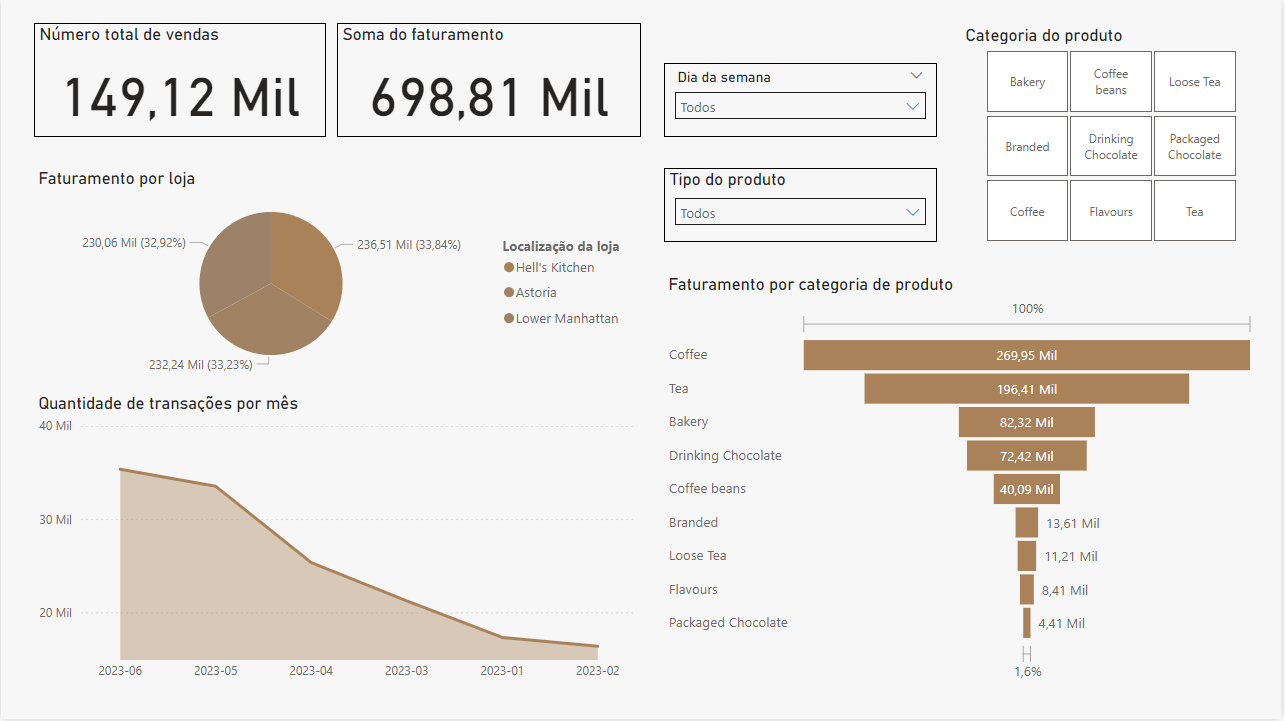

This screenshot's page, from the dashboard's own definition file:
{"tool":"powerbi","page":{"name":"Vendas 2023","canvas":[1280,720],"ordinal":0},"visuals":[{"type":"pieChart","title":"Faturamento por loja","fields":{"Category":["coffee_sales_2023_1sem.store_location"],"Y":["Sum(coffee_sales_2023_1sem.Total da transação)"]},"box":[32.5,168.8,607.5,212.5],"z":0},{"type":"card","title":"Soma do faturamento","fields":{"Values":["Sum(coffee_sales_2023_1sem.Total da transação)"]},"box":[336.2,23.8,303.8,113.8],"z":1000},{"type":"stackedAreaChart","title":"Quantidade de transações por mês","fields":{"Y":["CountNonNull(coffee_sales_2023_1sem.transaction_id)"],"Category":["coffee_sales_2023_1sem.Mês e ano"]},"box":[32.5,393.8,607.5,296.2],"z":2000},{"type":"slicer","fields":{"Values":["coffee_sales_2023_1sem.Dia da semana"]},"box":[662.5,63.8,273.8,73.8],"z":3000},{"type":"funnel","title":"Faturamento por categoria de produto","fields":{"Category":["coffee_sales_2023_1sem.Categoria do produto"],"Y":["Sum(coffee_sales_2023_1sem.Total da transação)"]},"box":[662.5,275,596.2,411.2],"z":4000},{"type":"slicer","title":"Tipo do produto","fields":{"Values":["coffee_sales_2023_1sem.Tipo do produto"]},"box":[662.5,168.8,273.8,73.8],"z":5000},{"type":"slicer","title":"Categoria do produto","fields":{"Values":["sales_2023.Categoria do produto"]},"box":[960,26.2,298.8,222.5],"z":6000},{"type":"card","title":"Número total de vendas","fields":{"Values":["CountNonNull(sales_2023.transaction_id)"]},"box":[32.5,23.8,292.5,113.8],"z":7000}]}

Visuals, with their boxes in screenshot pixels (x1, y1, x2, y2), scaled from the page's 1280x720 canvas onto the 1285x721 screenshot:
"Faturamento por loja" pieChart: [33, 169, 642, 382]
"Soma do faturamento" card: [338, 24, 642, 138]
"Quantidade de transações por mês" stackedAreaChart: [33, 394, 642, 691]
slicer - coffee_sales_2023_1sem.Dia da semana: [665, 64, 940, 138]
"Faturamento por categoria de produto" funnel: [665, 275, 1264, 687]
"Tipo do produto" slicer: [665, 169, 940, 243]
"Categoria do produto" slicer: [964, 26, 1264, 249]
"Número total de vendas" card: [33, 24, 326, 138]
